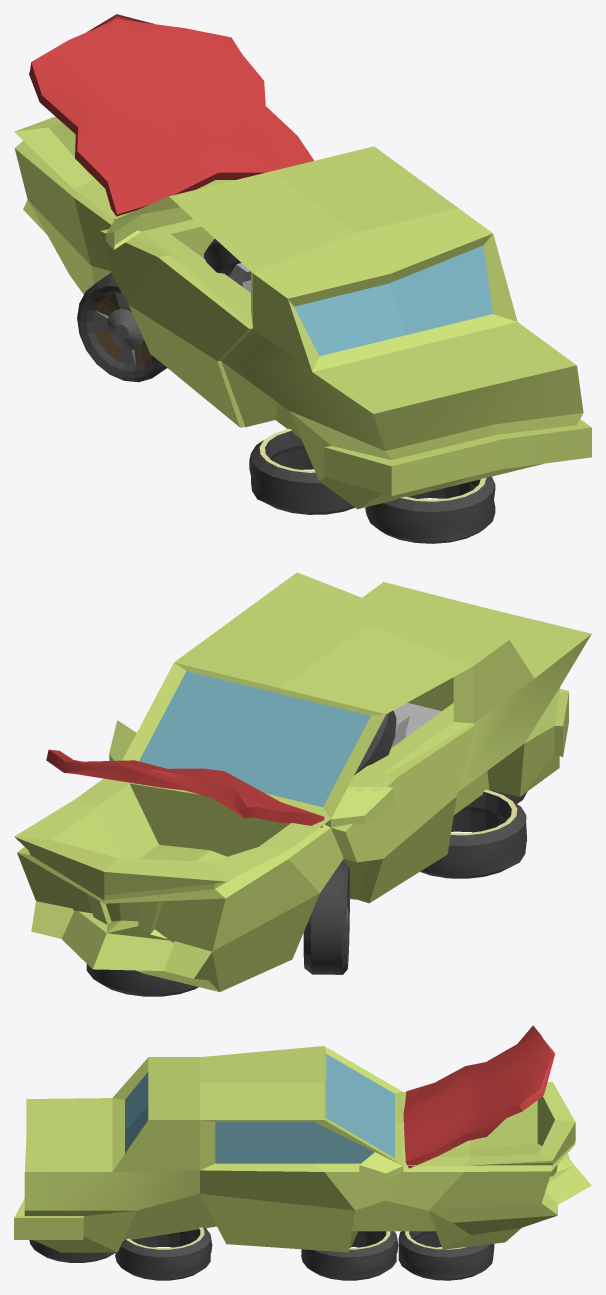
The model's file is Obstacle_2x1.fbx.
3 views of the same model, one above another, from view 1: azimuth 30°, elevation 25°; view 2: azimuth 150°, elevation 25°; view 3: azimuth 270°, elevation 25° (orthographic). The views are drawn at different scales.
Parts seen in each view (by area): view 1: pCylinder72; view 2: pCylinder72; view 3: pCylinder72.
Part boxes in pixels (x1,y1,x2,y2): pCylinder72: (14,14,591,543); pCylinder72: (14,572,591,996); pCylinder72: (14,1025,591,1280).
Bounding box in the file's own units: 79.95 × 76.45 × 203.
